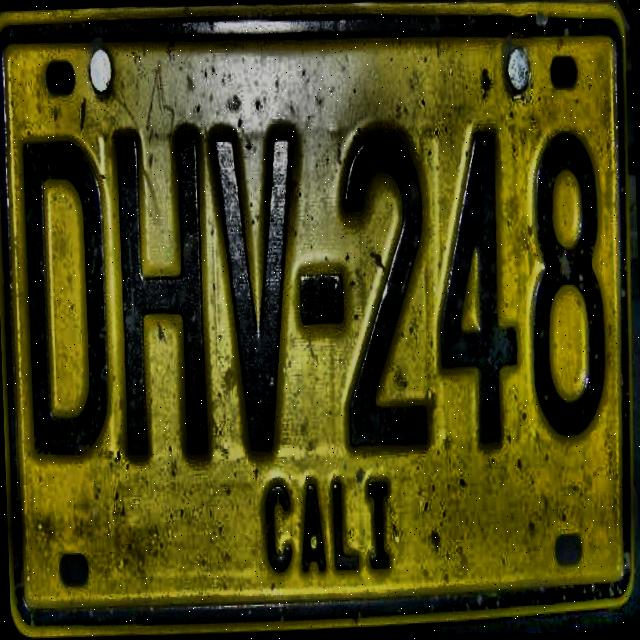plate: (0, 12, 633, 633)
